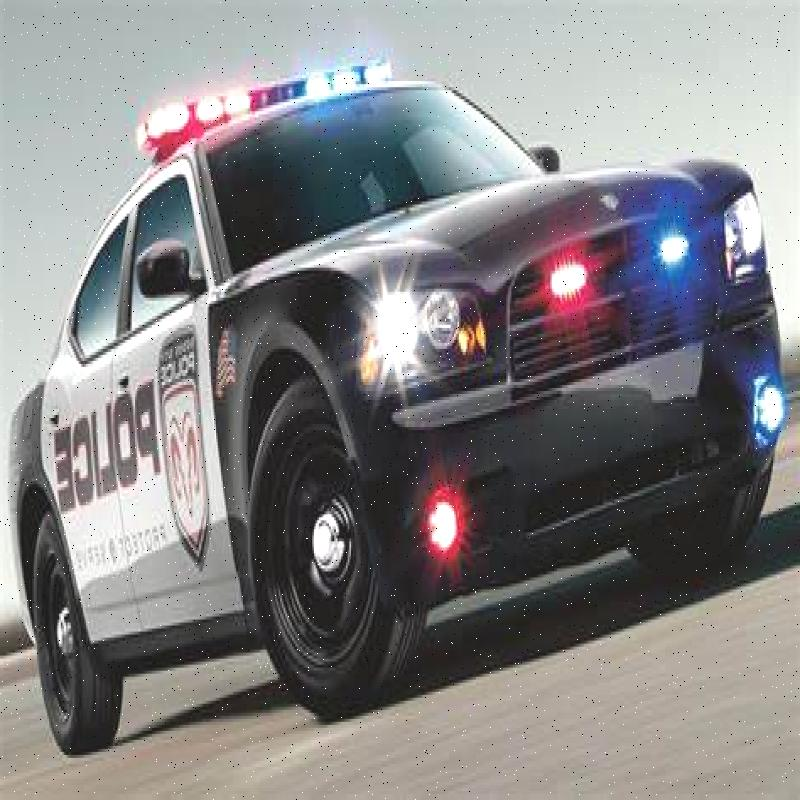AmbulanceSiren: (146, 29, 394, 163)
car: (80, 69, 700, 685)
